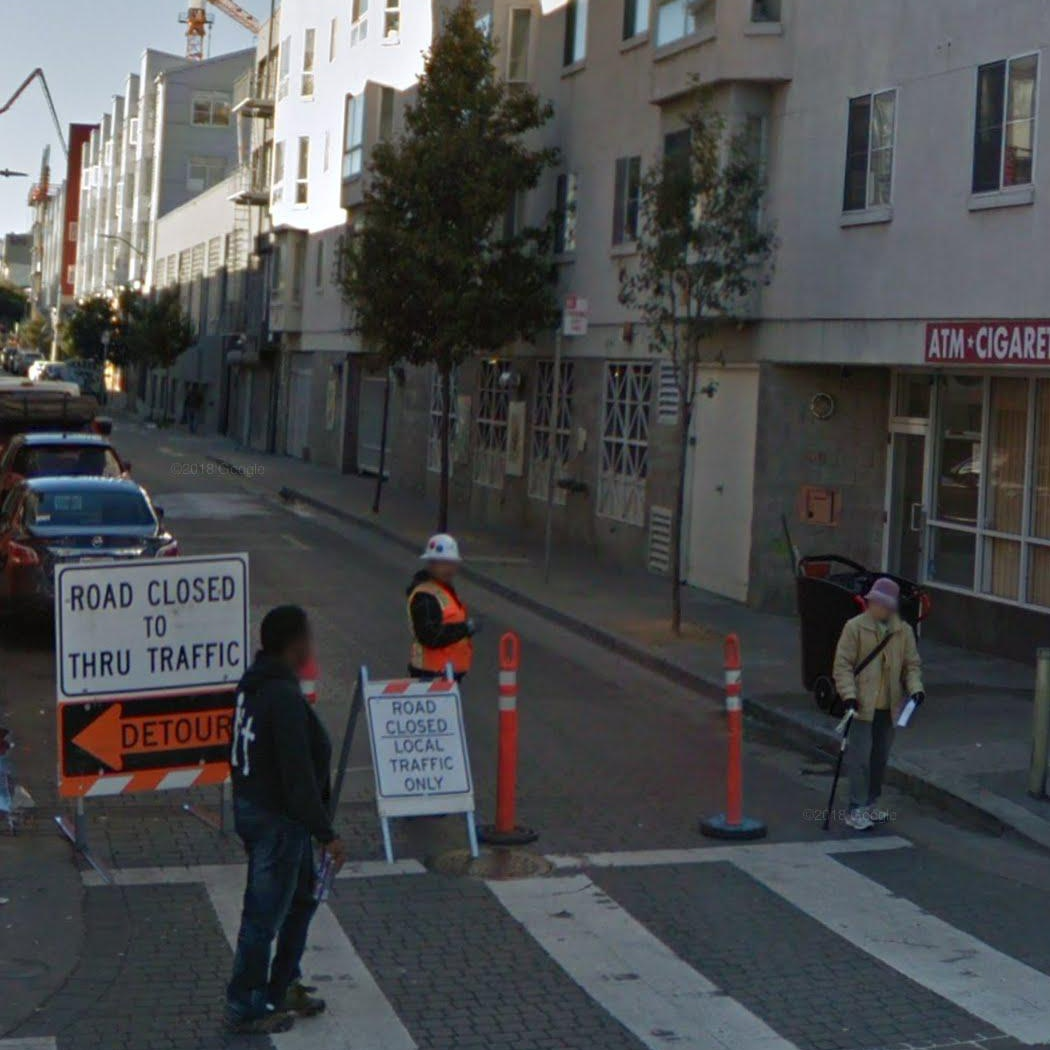No Parking Anytime: (562, 294, 589, 336)
